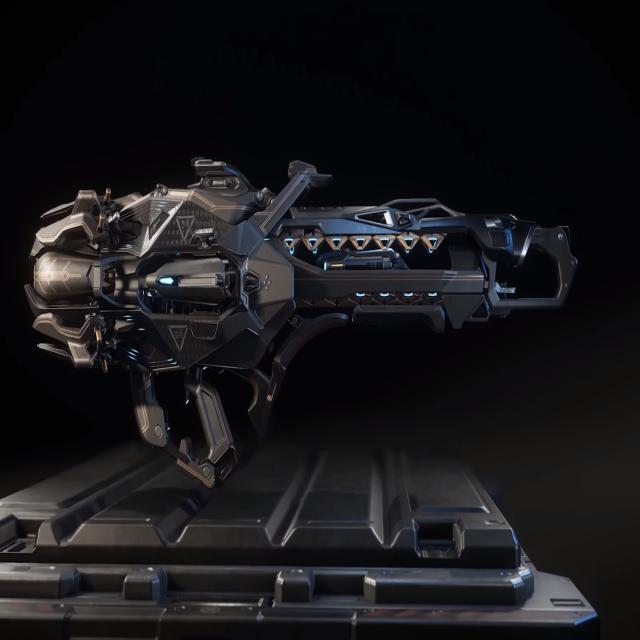bazooka: (18, 142, 596, 506)
